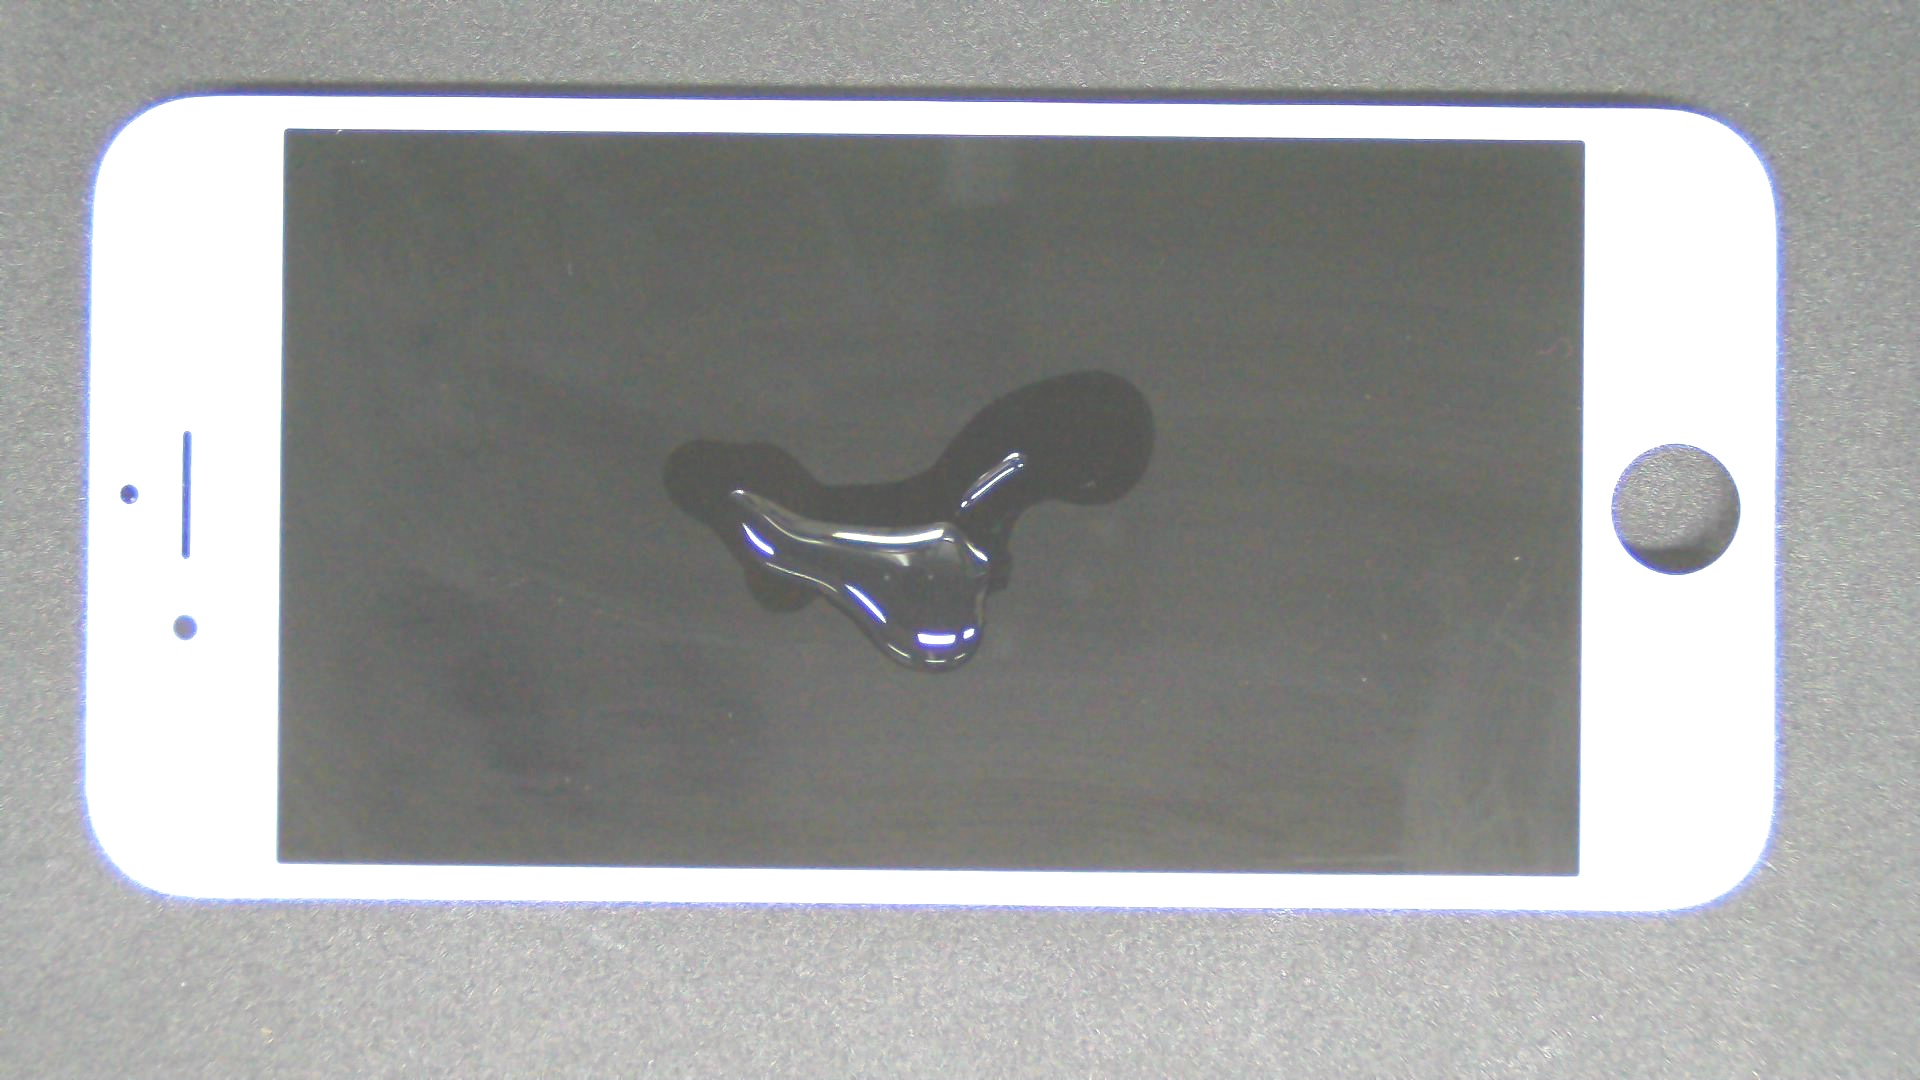oil: (546, 183, 1636, 551)
